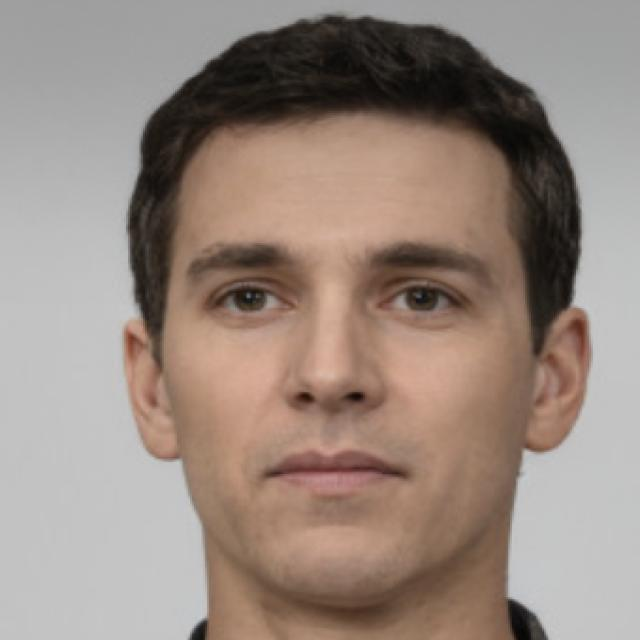natural: (134, 24, 568, 560)
